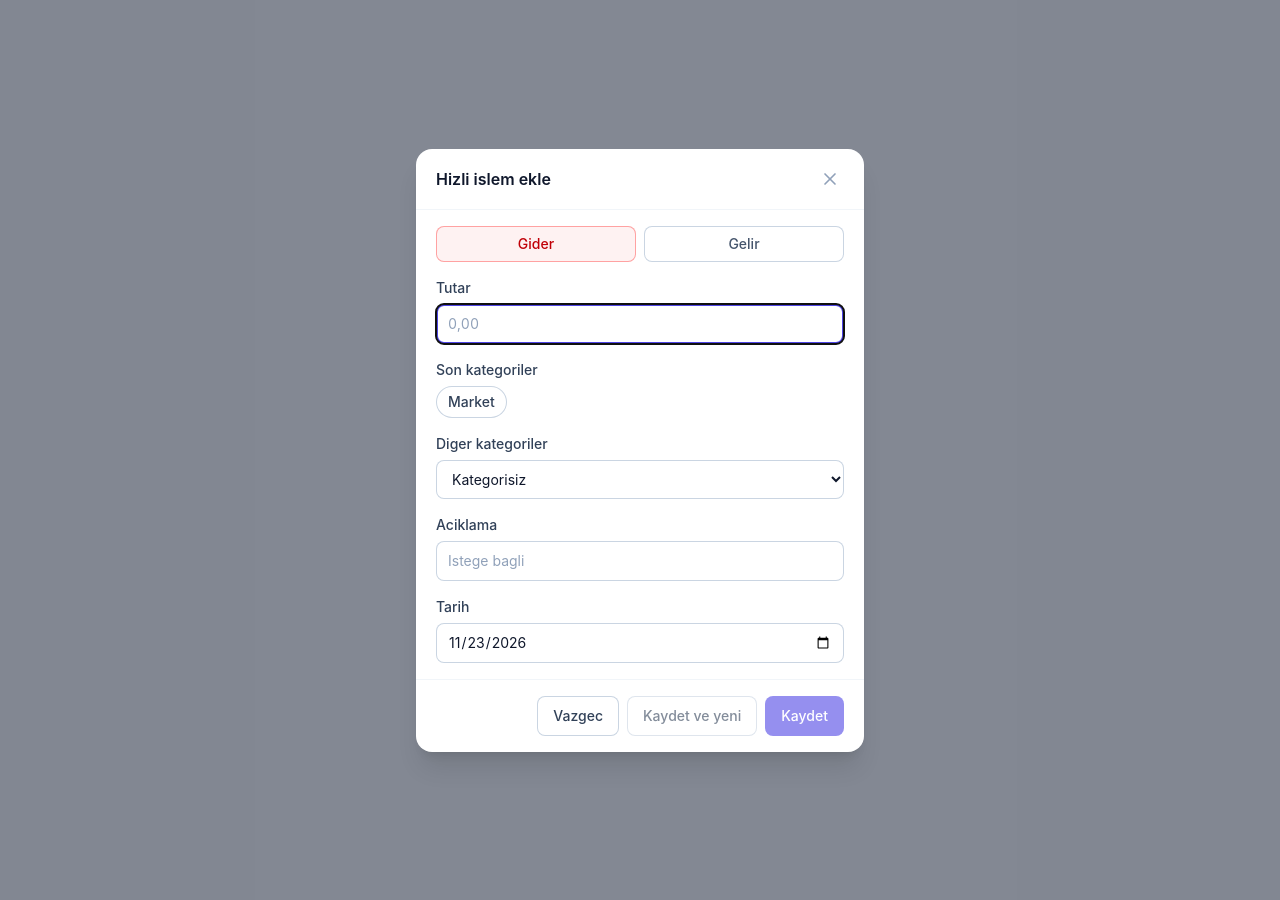
Test: HizliEkle › kayit hatasinda mesaj gosterir ve modal acik kalir
In the field labelled "Tutar": (640, 324) top-left (436, 304), bottom-right (844, 344), type "5"
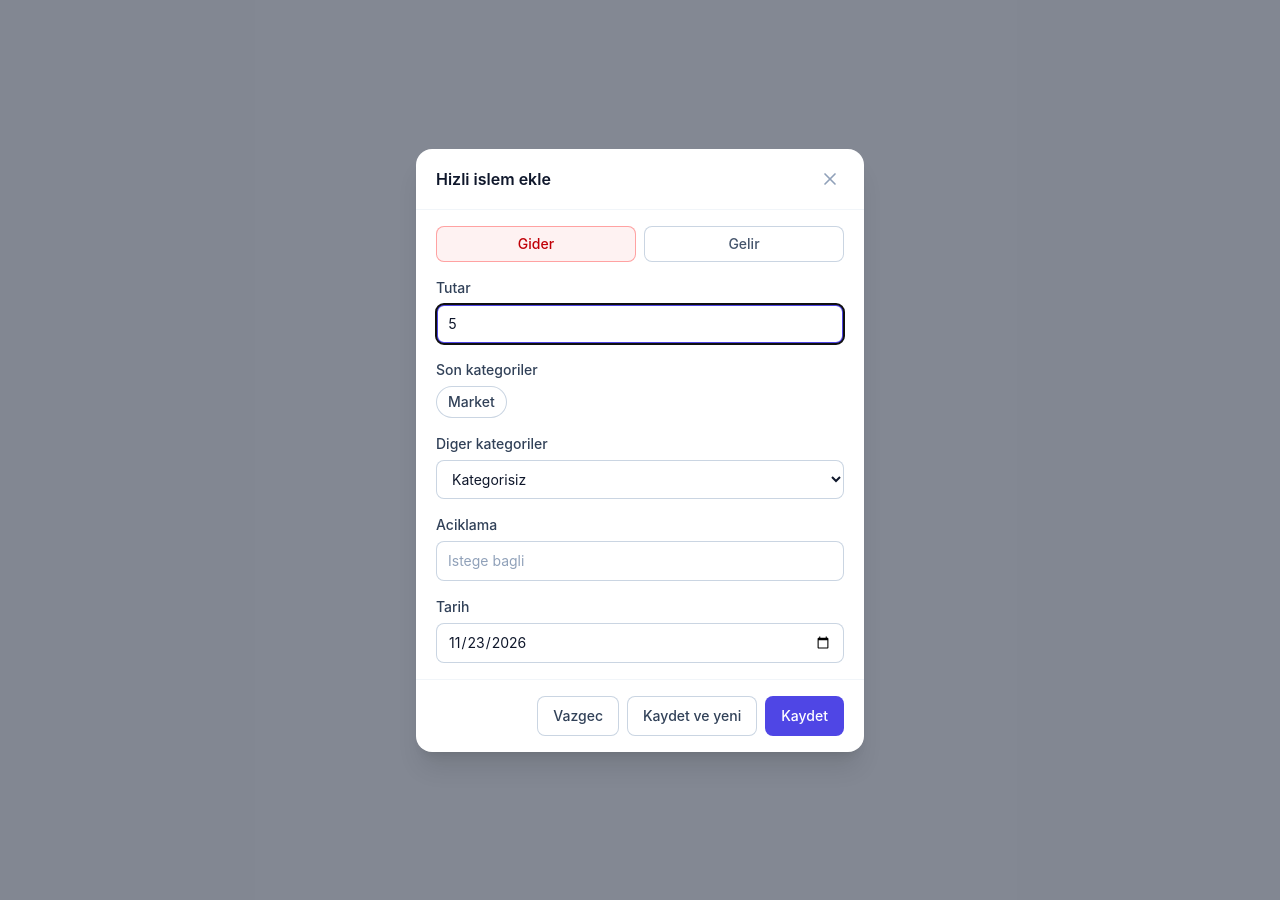
Click the button "Kaydet": click(805, 716) top-left (765, 696), bottom-right (844, 736)
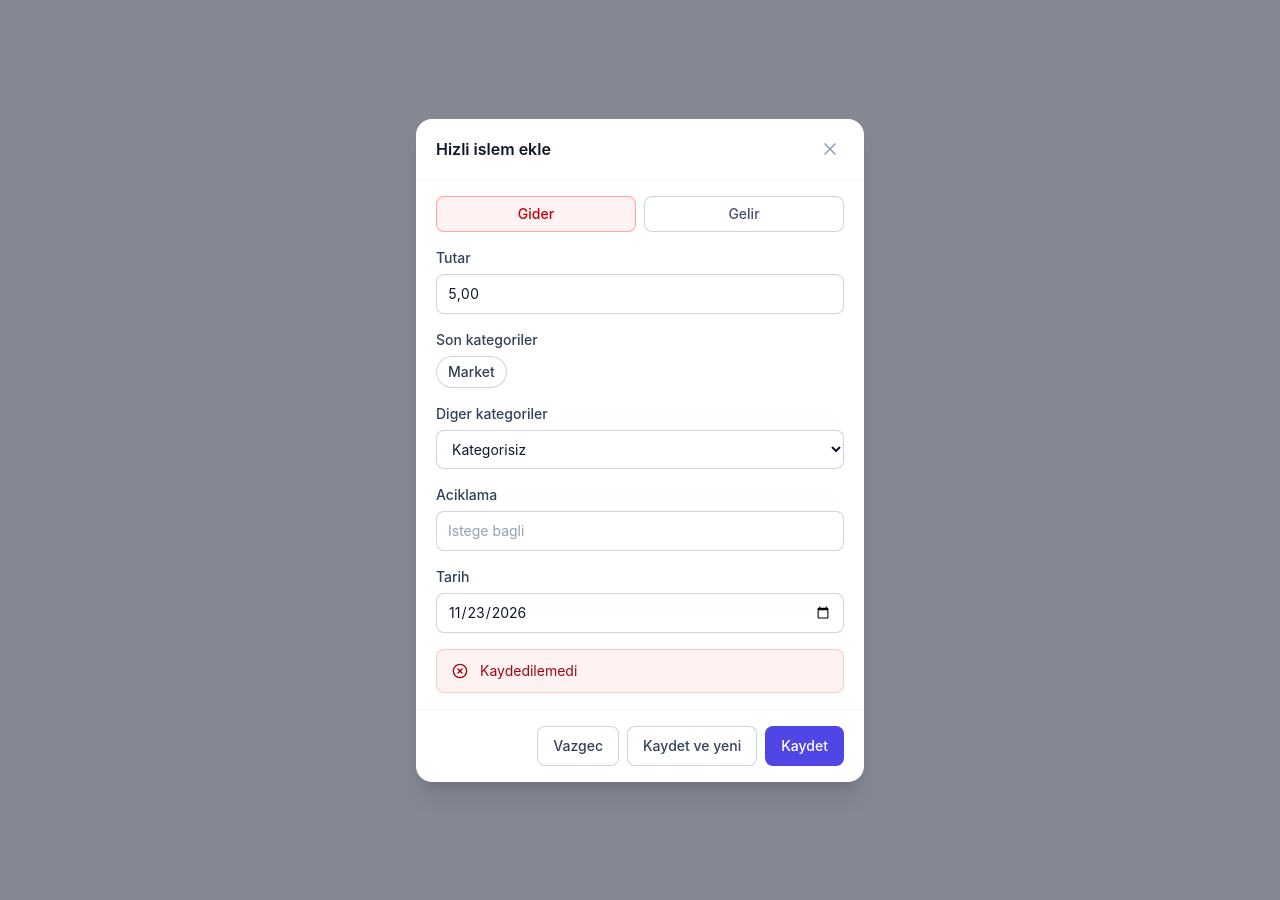
expect the message reads "Kaydedilemedi": met, box top-left (480, 662), bottom-right (577, 678)
